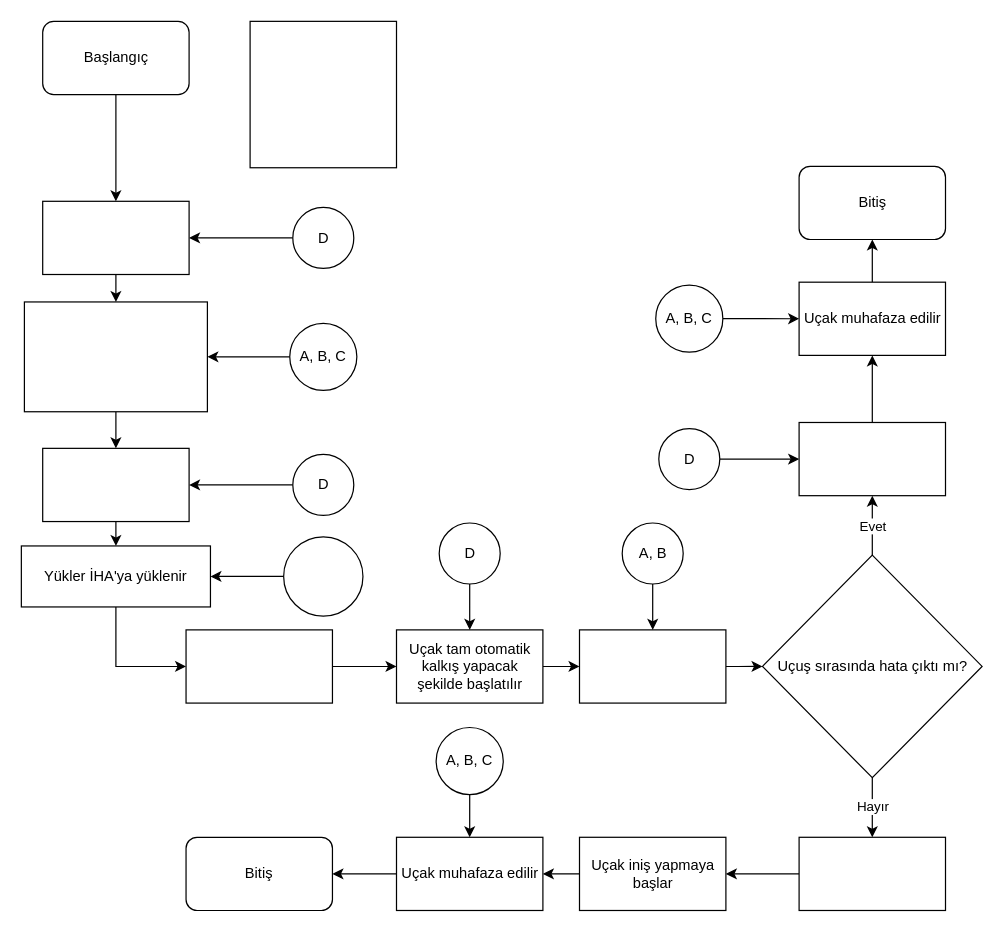
Image size: 1004x932. Some labels were removed from this diagram. Each missing label, with the centre of its shape:
"A, B, C, D" belongs at [322,576].
"İHA muhafaza kutusuyla beraber uçuş alanına taşınır" belongs at [115,356].
"İHA'nın son kontrolü yapılır" belongs at [258,666].
"İHA'ya gereken koordinatlar yüklenir" belongs at [115,484].
"Radyo ve bilgisayar istasyonuna geçilir" belongs at [115,237].
"Uçak fail safe moduna alınıp güvenli bir şekilde inişi gerçekleştirilir" belongs at [872,458].
"Uçağın rotasını tamamlaması beklenir" belongs at [872,873].
"Uçuş alanına girecek kişiler: A: B: C: D:" belongs at [322,94].
"Uçuş kalkış için desteklenir" belongs at [652,666].
